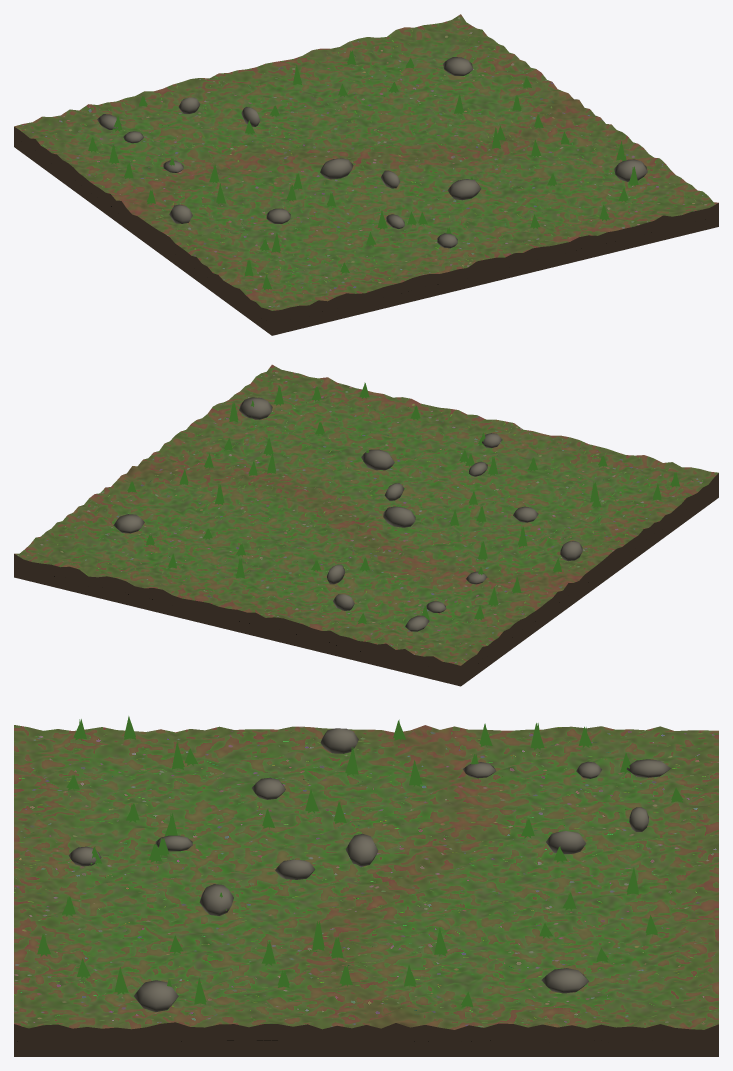
File: ground_grass_dirt_01.obj
3 views of the same model, one above another, from view 1: azimuth 30°, elevation 25°; view 2: azimuth 150°, elevation 25°; view 3: azimuth 270°, elevation 25° (orthographic). The views are drawn at different scales.
Parts seen in each view (by area): view 1: mesh; view 2: mesh; view 3: mesh.
Part boxes in pixels (x1=…): mesh: x1=14, y1=14, x2=718, y2=335; mesh: x1=14, y1=364, x2=718, y2=686; mesh: x1=14, y1=716, x2=718, y2=1056.
Bounding box in the file's own units: 4 × 0.3896 × 4.
4 materials, 1 textured.
